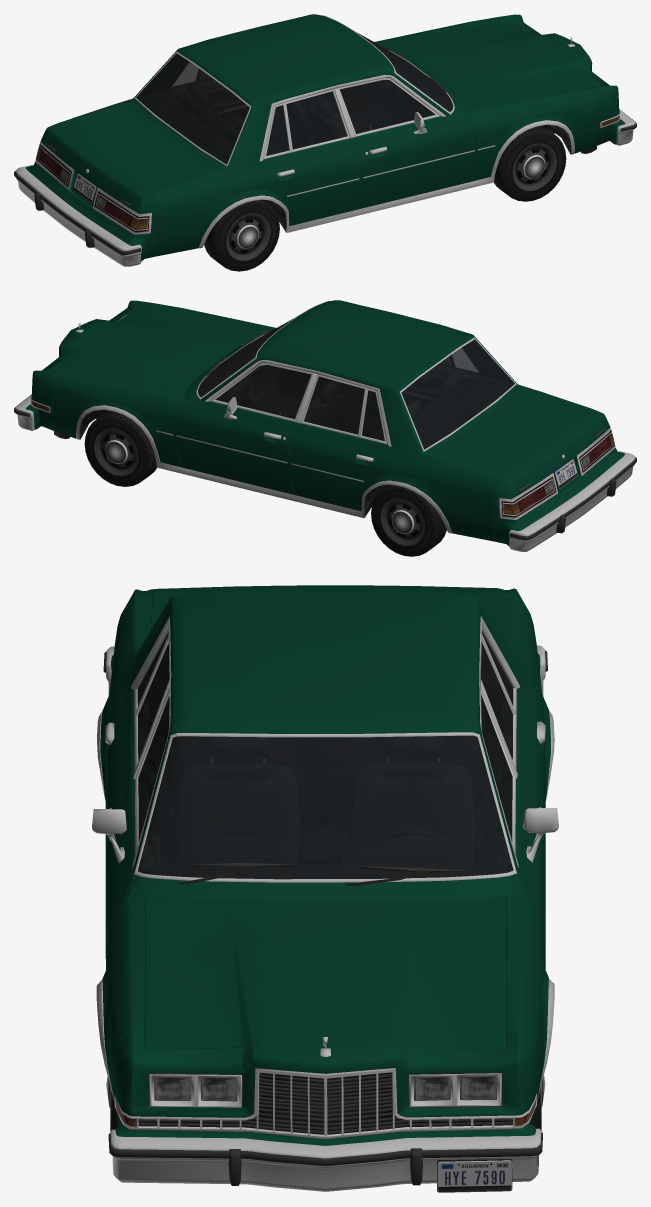
The model's file is negotiator.glb.
3 renders of one model, top to bottom at view 1: azimuth 30°, elevation 25°; view 2: azimuth 150°, elevation 25°; view 3: azimuth 270°, elevation 25°, orthographic. The views are drawn at different scales.
Parts seen in each view (by area): view 1: Negotiator80_Body_Negotiator80_Bodymat_0, Negotiator80_Interior_UCB_Interiors_2_0, Negotiator80_Hood_Negotiator80_Bodymat_0, Negotiator80_bottom_UCB_BOTTOM_0, Negotiator80_Trunk_door_Negotiator80_Bodymat_0, Negotiator80_Glass_back_UCB_Lights_and_Glass_Transperent_0, Negotiator80_WheelStock_FR_RB1c_Tire_1k_0, Negotiator80_WheelStock_RR_RB1c_Tire_1k_0, Negotiator80_Bodyglass_UCB_Lights_and_Glass_Transperent_0, Negotiator80_Bumper_Rear_UCB_BOTTOM_0, Negotiator80_Glass_Passanger_UCB_Lights_and_Glass_Transperen, Negotiator80_Windshield_UCB_Lights_and_Glass_Transperent_0 (+4 smaller); view 2: Negotiator80_Body_Negotiator80_Bodymat_0, Negotiator80_Interior_UCB_Interiors_2_0, Negotiator80_Hood_Negotiator80_Bodymat_0, Negotiator80_bottom_UCB_BOTTOM_0, Negotiator80_Trunk_door_Negotiator80_Bodymat_0, Negotiator80_Glass_back_UCB_Lights_and_Glass_Transperent_0, Negotiator80_WheelStock_FL_RB1c_Tire_1k_0, Negotiator80_WheelStock_RL_RB1c_Tire_1k_0, Negotiator80_Bodyglass_UCB_Lights_and_Glass_Transperent_0, Negotiator80_Bumper_Rear_UCB_BOTTOM_0, Negotiator80_Glass_Driver_UCB_Lights_and_Glass_Transperent_0, Negotiator80_Windshield_UCB_Lights_and_Glass_Transperent_0 (+4 smaller); view 3: Negotiator80_Body_Negotiator80_Bodymat_0, Negotiator80_Hood_Negotiator80_Bodymat_0, Negotiator80_Interior_UCB_Interiors_2_0, Negotiator80_Windshield_UCB_Lights_and_Glass_Transperent_0, Negotiator80_bottom_UCB_BOTTOM_0, Negotiator80_Bumper_Front_UCB_BOTTOM_0, Negotiator80_Headlights_Glass_UCB_Lights_and_Glass_Transpere, Negotiator80_Bodyglass_UCB_Lights_and_Glass_Transperent_0, Negotiator80_Headlights_UCB_Lights_and_Glass_0, Negotiator80_Trunk_door_Negotiator80_Bodymat_0, Negotiator80_Numberplate_front_Numberplates_Misk_U_0, Negotiator80_Glass_Driver_UCB_Lights_and_Glass_Transperent_0 (+1 smaller).
Boxes of the visible parts, x1,y1,x2,y2 form: Negotiator80_Body_Negotiator80_Bodymat_0: (26,14,625,261); Negotiator80_Interior_UCB_Interiors_2_0: (136,45,452,195); Negotiator80_Hood_Negotiator80_Bodymat_0: (378,20,601,110); Negotiator80_bottom_UCB_BOTTOM_0: (35,15,620,261); Negotiator80_Trunk_door_Negotiator80_Bodymat_0: (46,103,216,209); Negotiator80_Glass_back_UCB_Lights_and_Glass_Transperent_0: (136,53,249,164); Negotiator80_WheelStock_FR_RB1c_Tire_1k_0: (493,125,566,201); Negotiator80_WheelStock_RR_RB1c_Tire_1k_0: (204,199,279,271); Negotiator80_Bodyglass_UCB_Lights_and_Glass_Transperent_0: (200,72,346,155); Negotiator80_Bumper_Rear_UCB_BOTTOM_0: (14,165,141,266); Negotiator80_Glass_Passanger_UCB_Lights_and_Glass_Transperen: (340,80,435,133); Negotiator80_Windshield_UCB_Lights_and_Glass_Transperent_0: (357,32,453,112); Negotiator80_Body_Negotiator80_Bodymat_0: (25,300,625,546); Negotiator80_Interior_UCB_Interiors_2_0: (197,331,514,480); Negotiator80_Hood_Negotiator80_Bodymat_0: (49,306,272,395); Negotiator80_bottom_UCB_BOTTOM_0: (30,301,615,543); Negotiator80_Trunk_door_Negotiator80_Bodymat_0: (434,389,605,494); Negotiator80_Glass_back_UCB_Lights_and_Glass_Transperent_0: (401,339,514,449); Negotiator80_WheelStock_FL_RB1c_Tire_1k_0: (84,410,157,486); Negotiator80_WheelStock_RL_RB1c_Tire_1k_0: (371,485,446,556); Negotiator80_Bodyglass_UCB_Lights_and_Glass_Transperent_0: (304,358,451,441); Negotiator80_Bumper_Rear_UCB_BOTTOM_0: (509,451,636,551); Negotiator80_Glass_Driver_UCB_Lights_and_Glass_Transperent_0: (215,365,311,418); Negotiator80_Windshield_UCB_Lights_and_Glass_Transperent_0: (197,318,293,397); Negotiator80_Body_Negotiator80_Bodymat_0: (100,588,550,1145); Negotiator80_Hood_Negotiator80_Bodymat_0: (144,897,506,1048); Negotiator80_Interior_UCB_Interiors_2_0: (138,652,512,878); Negotiator80_Windshield_UCB_Lights_and_Glass_Transperent_0: (137,735,513,879); Negotiator80_bottom_UCB_BOTTOM_0: (92,616,558,1139); Negotiator80_Bumper_Front_UCB_BOTTOM_0: (108,1128,542,1191); Negotiator80_Headlights_Glass_UCB_Lights_and_Glass_Transpere: (115,1075,535,1127); Negotiator80_Bodyglass_UCB_Lights_and_Glass_Transperent_0: (137,632,513,760); Negotiator80_Headlights_UCB_Lights_and_Glass_0: (155,1075,496,1100); Negotiator80_Trunk_door_Negotiator80_Bodymat_0: (150,585,500,630); Negotiator80_Numberplate_front_Numberplates_Misk_U_0: (437,1160,512,1192); Negotiator80_Glass_Driver_UCB_Lights_and_Glass_Transperent_0: (481,694,512,841).
Bounding box in the file's own units: 4.94 × 1.39 × 1.87.
Materials: 8 (7 with a texture image).
